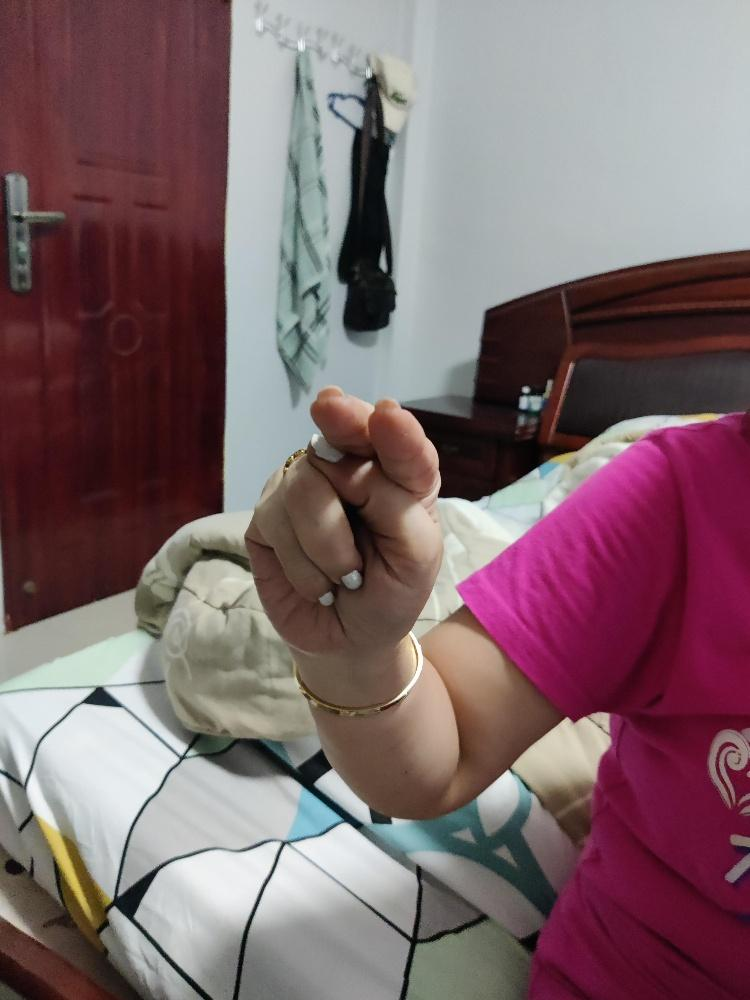n: (241, 383, 444, 655)
